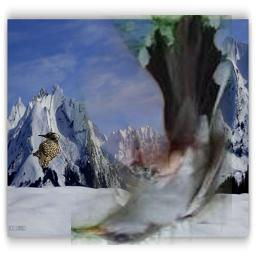Cuckoo: (71, 15, 232, 245)
Woodpecker: (32, 132, 60, 168)
